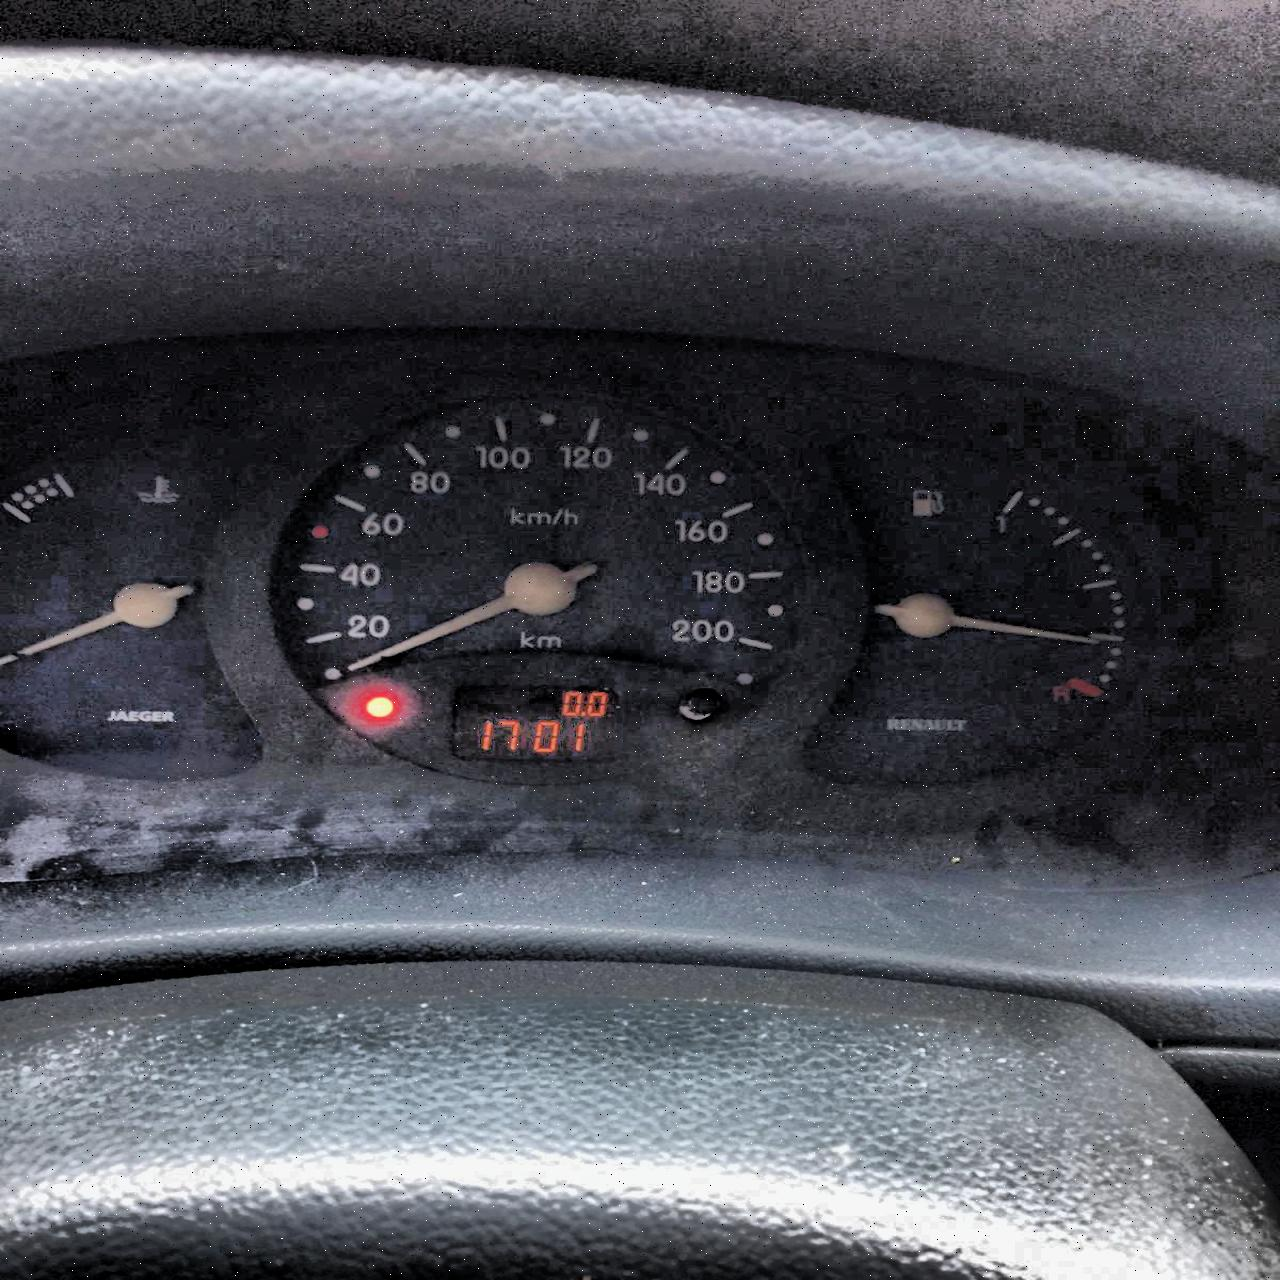-: (579, 710, 586, 716)
0: (531, 720, 559, 753), (560, 690, 581, 716), (586, 692, 607, 716)
1: (572, 722, 586, 753), (481, 721, 492, 749)
7: (497, 720, 519, 750)
odometer: (445, 681, 629, 765)
